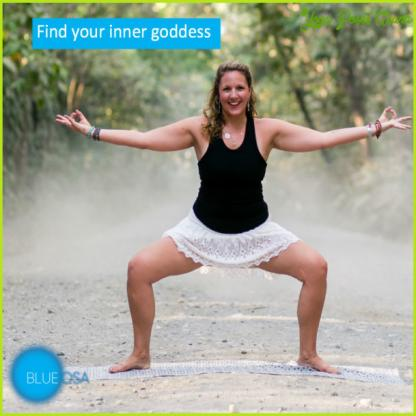godness: (48, 58, 414, 379)
